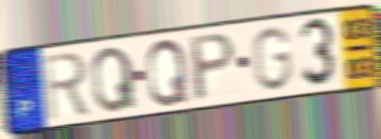3: (297, 15, 341, 90)
G: (249, 24, 294, 94)
P: (189, 30, 238, 105)
Q: (89, 44, 140, 116), (144, 37, 191, 109)
R: (42, 50, 93, 124)
